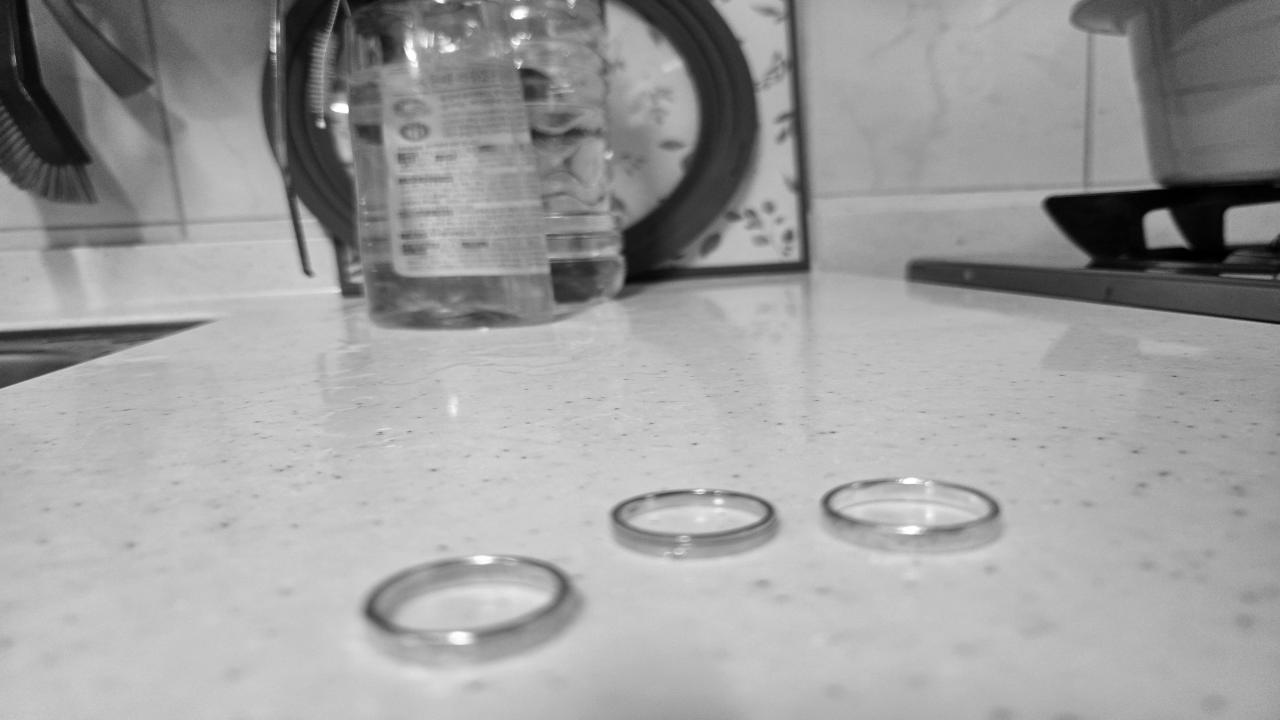ring: (360, 554, 579, 666), (819, 477, 1006, 552), (609, 487, 780, 558)
